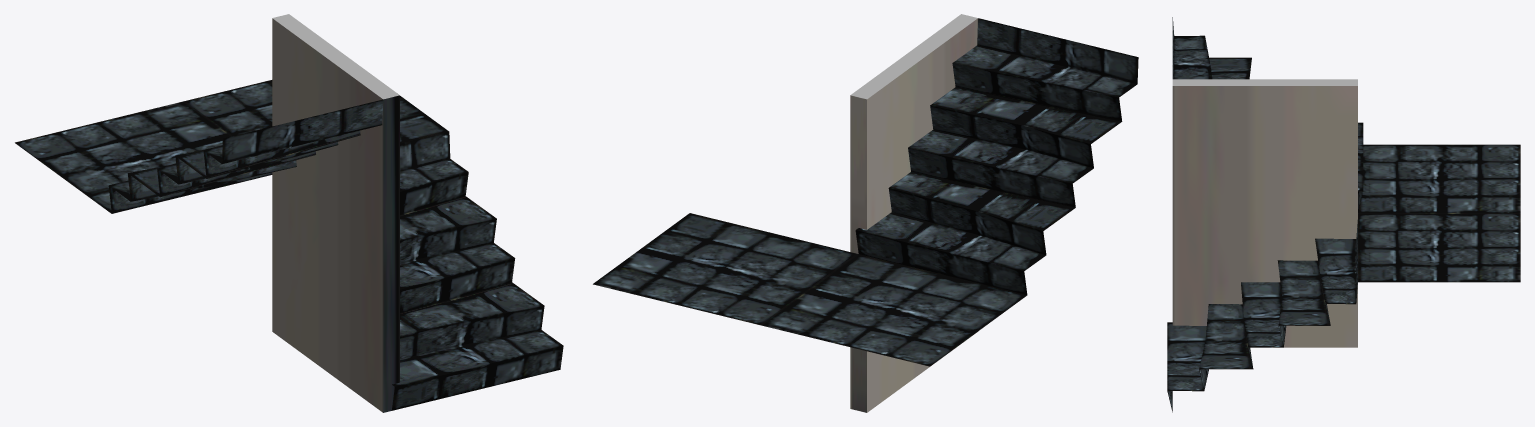
The model's file is TreppeMitTrennwandGedrehtSchmal [Steinfliesen]_559.glb.
The picture shows the model from 3 angles, left to right: view 1: azimuth 30°, elevation 25°; view 2: azimuth 150°, elevation 25°; view 3: azimuth 270°, elevation 25°; orthographic projection. The views are drawn at different scales.
Visible parts, largest first — view 1: pCubeShape3, pPlaneShape24, pPlaneShape1, pPlaneShape19, pPlaneShape18; view 2: pPlaneShape19, pPlaneShape1, pCubeShape3, pPlaneShape18; view 3: pCubeShape3, pPlaneShape1, pPlaneShape24, pPlaneShape19, pPlaneShape18.
Boxes of the visible parts, bbox=[...] form: pCubeShape3: bbox=[272, 18, 399, 412]; pPlaneShape24: bbox=[391, 132, 563, 410]; pPlaneShape1: bbox=[15, 80, 448, 213]; pPlaneShape19: bbox=[108, 99, 383, 213]; pPlaneShape18: bbox=[272, 14, 399, 99]; pPlaneShape19: bbox=[855, 18, 1138, 294]; pPlaneShape1: bbox=[593, 213, 1026, 366]; pCubeShape3: bbox=[850, 18, 978, 412]; pPlaneShape18: bbox=[850, 14, 977, 99]; pCubeShape3: bbox=[1172, 86, 1357, 347]; pPlaneShape1: bbox=[1358, 144, 1520, 282]; pPlaneShape24: bbox=[1167, 220, 1357, 412]; pPlaneShape19: bbox=[1172, 17, 1363, 212]; pPlaneShape18: bbox=[1172, 79, 1357, 85].
Bounding box in the file's own units: 0.4385 × 0.3891 × 0.4763.
Materials: 5 (4 with a texture image).
